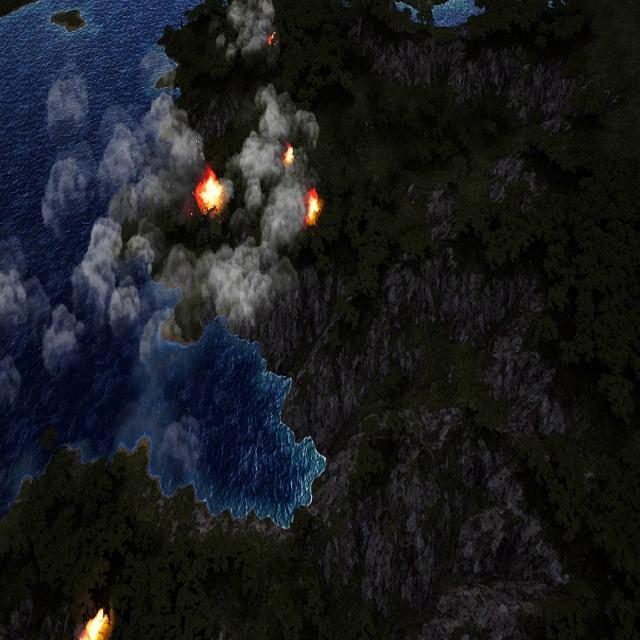fire: (197, 169, 224, 211), (79, 608, 114, 640), (307, 188, 322, 227), (284, 139, 294, 166)
smoke: (0, 52, 320, 408), (222, 0, 281, 63)
